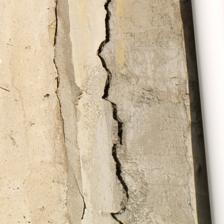Crack: (0, 0, 94, 149), (0, 11, 72, 123)
